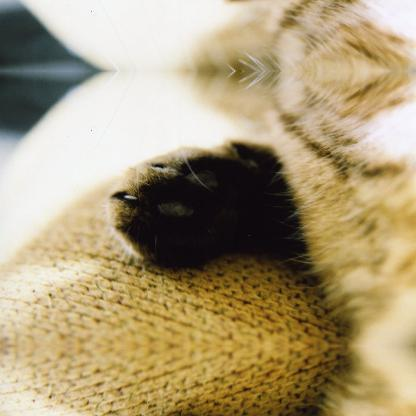Cat: (104, 136, 312, 274)
